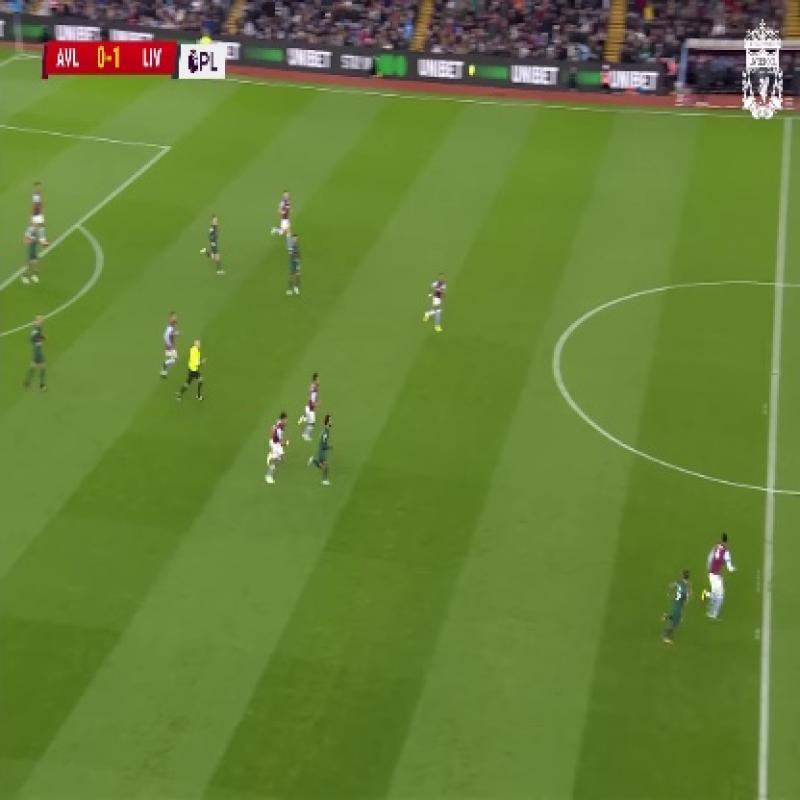1: (7, 45, 34, 64)
10: (67, 211, 85, 235)
13: (777, 106, 800, 134)
14: (766, 263, 792, 300)
15: (754, 462, 786, 514)
9: (158, 134, 177, 160)
c: (526, 327, 589, 386)
